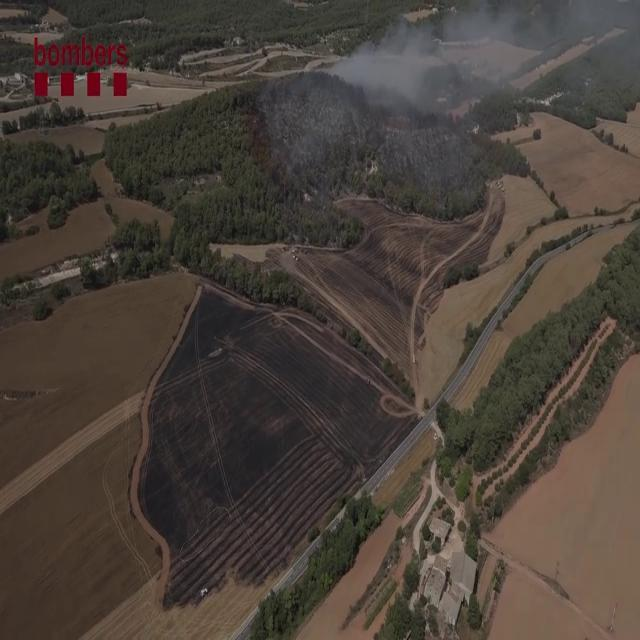Smoke: (338, 0, 554, 123)
